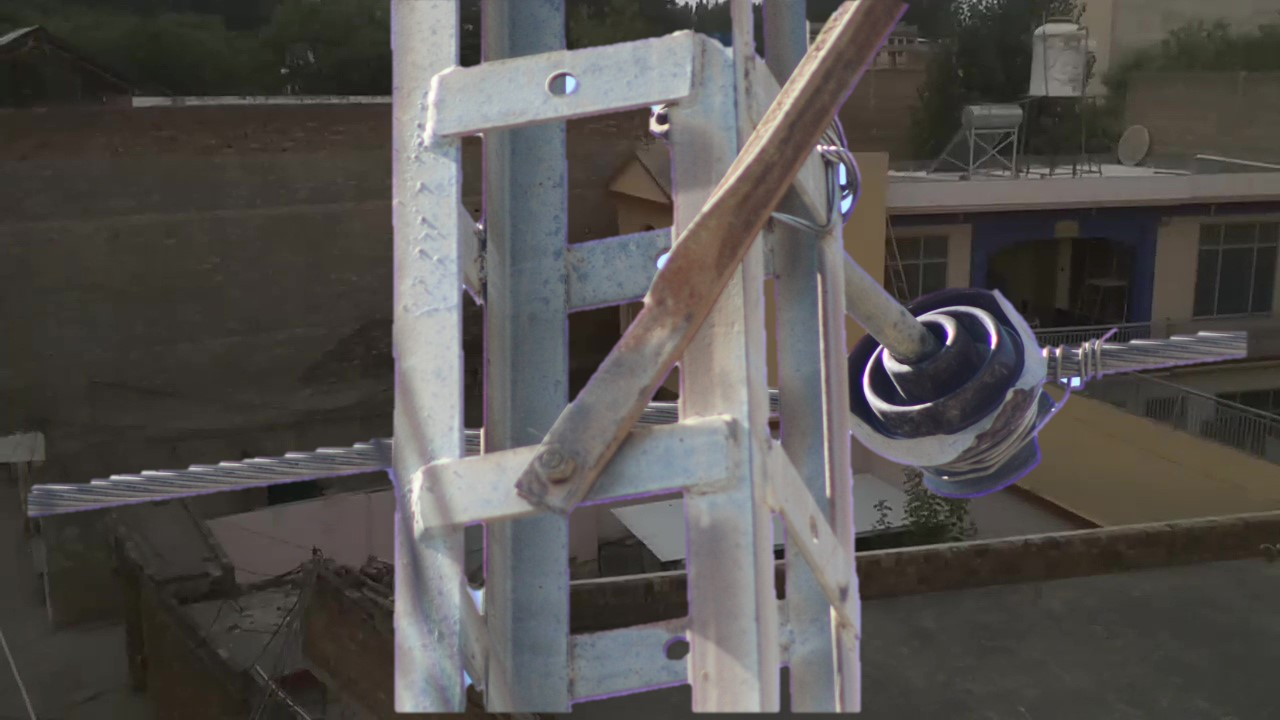defect_pin: (848, 273, 1061, 504)
